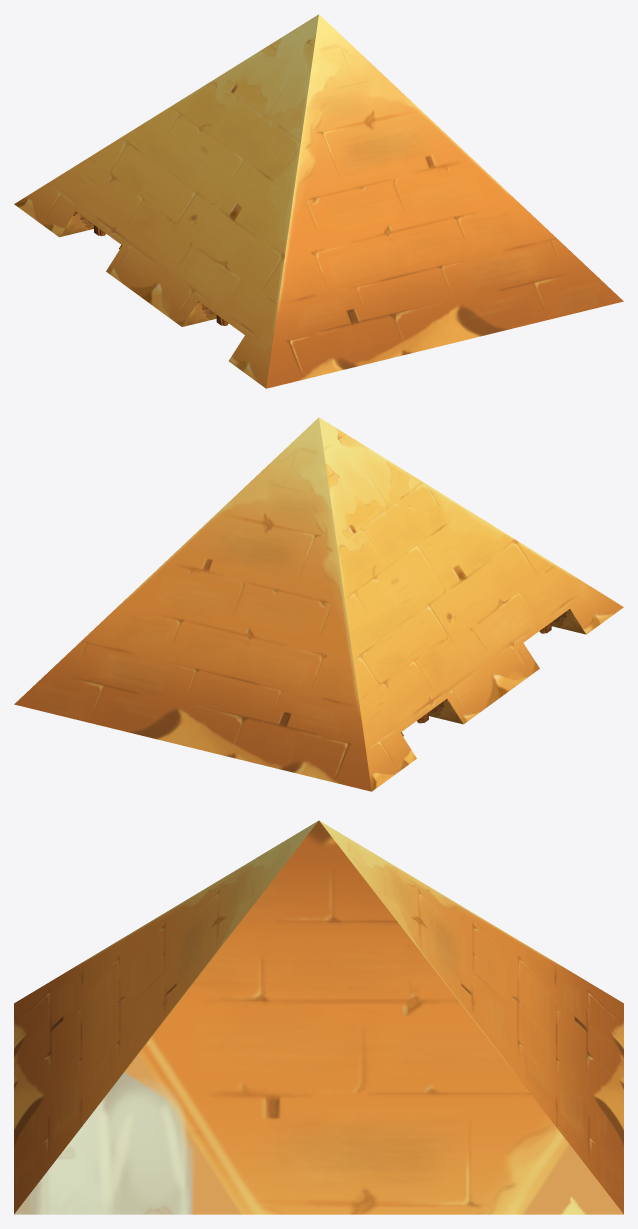
File: rc_03_bud_01.FBX
The picture shows the model from 3 angles, top to bottom: view 1: azimuth 30°, elevation 25°; view 2: azimuth 150°, elevation 25°; view 3: azimuth 270°, elevation 25°; orthographic projection. The views are drawn at different scales.
Visible parts, largest first — view 1: Box001; view 2: Box001; view 3: Box001.
Part boxes in pixels (x1,y1,x2,y2): Box001: [14, 14, 623, 388]; Box001: [14, 417, 623, 791]; Box001: [14, 820, 623, 1214].
Bounding box in the file's own units: 20009 × 24419 × 12944.
